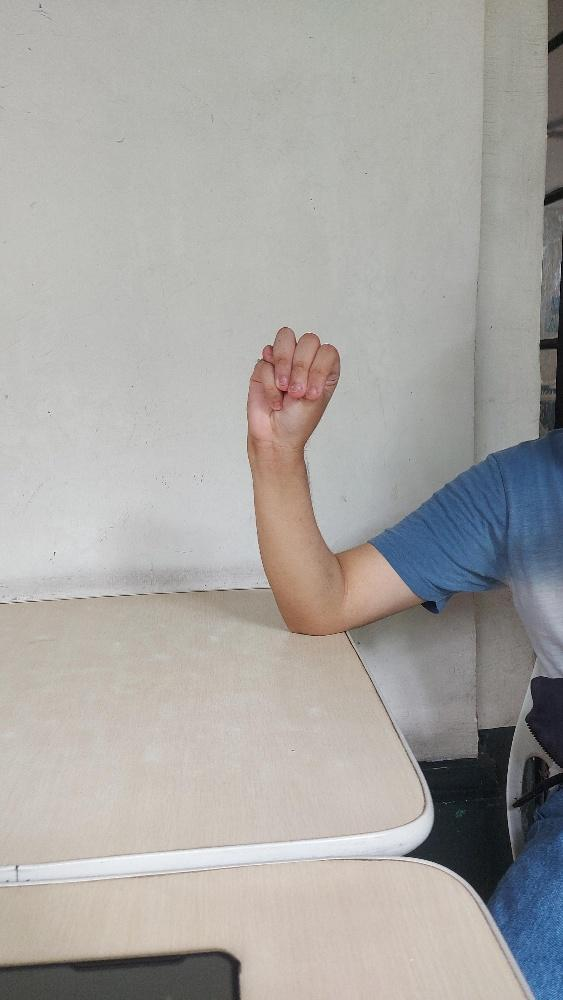m: (245, 325, 340, 446)
